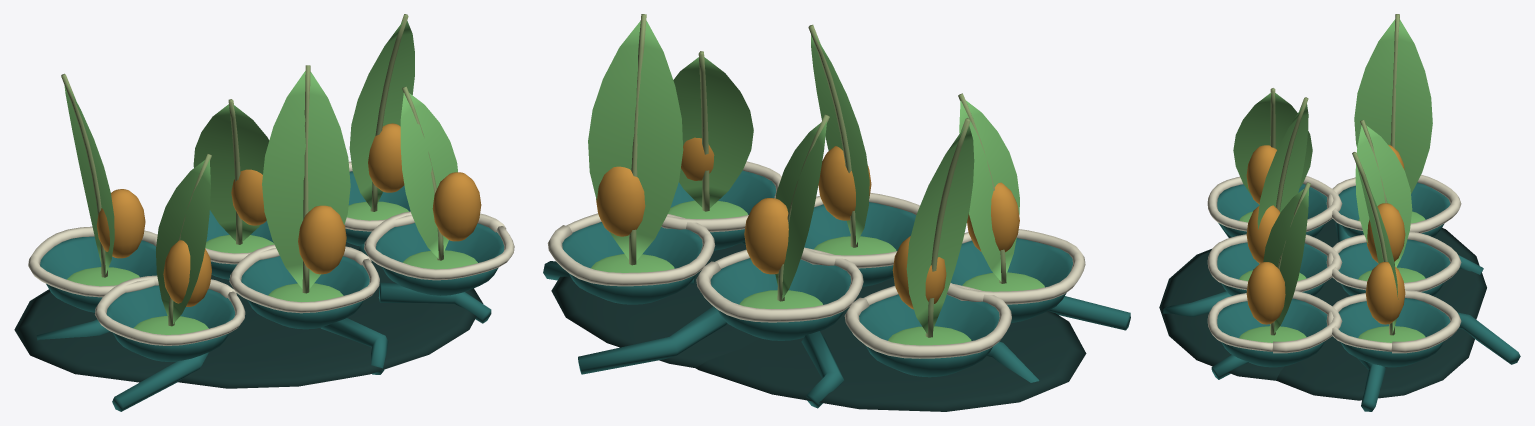
Rendered from building_resin_grove_a.obj.
3 renders of one model, left to right at view 1: azimuth 30°, elevation 25°; view 2: azimuth 150°, elevation 25°; view 3: azimuth 270°, elevation 25°, orthographic. The views are drawn at different scales.
Visible parts, largest first — view 1: irregular_anchoring_lobe.086, bent_living_blade.098, irregular_anchoring_lobe.084, bent_living_blade.099, bent_living_blade.102, bent_living_blade.101, bent_living_blade.097, open_living_cup.081, open_living_cup.082, open_living_cup.083, open_living_cup.084, grown_cup_lip.081 (+29 smaller); view 2: irregular_anchoring_lobe.084, bent_living_blade.102, irregular_anchoring_lobe.085, bent_living_blade.099, bent_living_blade.100, open_living_cup.085, open_living_cup.084, open_living_cup.086, bent_living_blade.097, bent_living_blade.101, open_living_cup.081, bent_living_blade.098 (+29 smaller); view 3: bent_living_blade.100, irregular_anchoring_lobe.085, irregular_anchoring_lobe.086, bent_living_blade.101, open_living_cup.086, open_living_cup.083, irregular_anchoring_lobe.084, bent_living_blade.099, bent_living_blade.097, open_living_cup.085, bent_living_blade.098, grown_cup_lip.086 (+25 smaller).
Boxes of the visible parts, x1,y1,x2,y2 form: irregular_anchoring_lobe.086: [178, 286, 483, 388]; bent_living_blade.098: [262, 71, 350, 288]; irregular_anchoring_lobe.084: [14, 275, 252, 382]; bent_living_blade.099: [400, 93, 457, 258]; bent_living_blade.102: [349, 21, 414, 208]; bent_living_blade.101: [193, 104, 269, 241]; bent_living_blade.097: [156, 159, 210, 323]; open_living_cup.081: [106, 285, 234, 361]; open_living_cup.082: [241, 256, 369, 329]; open_living_cup.083: [376, 223, 504, 295]; open_living_cup.084: [40, 236, 156, 312]; grown_cup_lip.081: [95, 275, 245, 345]; irregular_anchoring_lobe.084: [696, 298, 1086, 411]; bent_living_blade.102: [588, 20, 683, 260]; irregular_anchoring_lobe.085: [551, 254, 759, 368]; bent_living_blade.099: [673, 57, 753, 207]; bent_living_blade.100: [906, 125, 974, 334]; open_living_cup.085: [710, 258, 850, 340]; open_living_cup.084: [859, 294, 999, 377]; open_living_cup.086: [562, 222, 702, 304]; bent_living_blade.097: [959, 100, 1019, 281]; bent_living_blade.101: [775, 121, 826, 299]; open_living_cup.081: [950, 238, 1072, 322]; bent_living_blade.098: [811, 32, 869, 244]; bent_living_blade.100: [1354, 19, 1432, 193]; irregular_anchoring_lobe.085: [1276, 304, 1474, 400]; irregular_anchoring_lobe.086: [1159, 249, 1325, 380]; bent_living_blade.101: [1355, 125, 1412, 267]; open_living_cup.086: [1338, 298, 1450, 367]; open_living_cup.083: [1217, 298, 1327, 367]; irregular_anchoring_lobe.084: [1314, 219, 1486, 319]; bent_living_blade.099: [1263, 188, 1308, 333]; bent_living_blade.097: [1233, 92, 1312, 195]; open_living_cup.085: [1338, 239, 1450, 295]; bent_living_blade.098: [1257, 104, 1308, 229]; grown_cup_lip.086: [1326, 289, 1461, 353].
Bounding box in the file's own units: 3.59 × 1.91 × 2.73.
